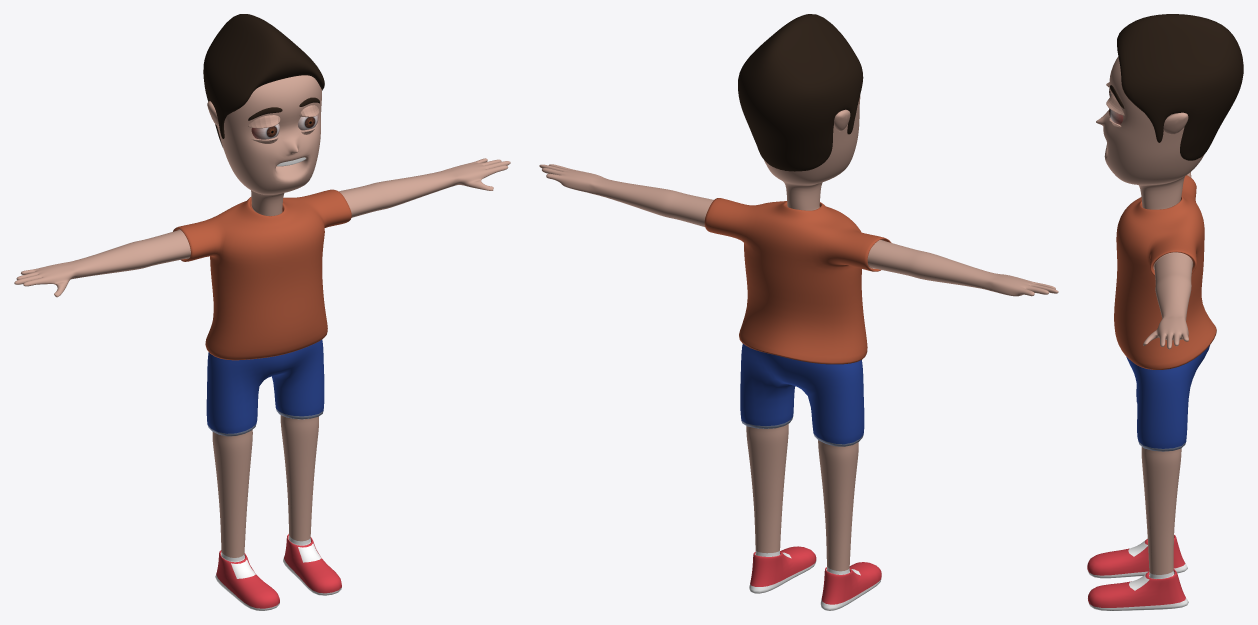
File: Low Poly Stylized Character - With Shoes.fbx
3 views of the same model, side by side, from view 1: azimuth 30°, elevation 25°; view 2: azimuth 150°, elevation 25°; view 3: azimuth 270°, elevation 25° (orthographic). The views are drawn at different scales.
Visible parts, largest first — view 1: Character Body; view 2: Character Body; view 3: Character Body, Ear.
Boxes of the visible parts, bbox=[...] form: Character Body: bbox=[14, 14, 510, 610]; Character Body: bbox=[539, 14, 1058, 610]; Character Body: bbox=[1087, 14, 1243, 610]; Ear: bbox=[1163, 112, 1188, 134].
Bounding box in the file's own units: 175 × 186 × 46.07.
